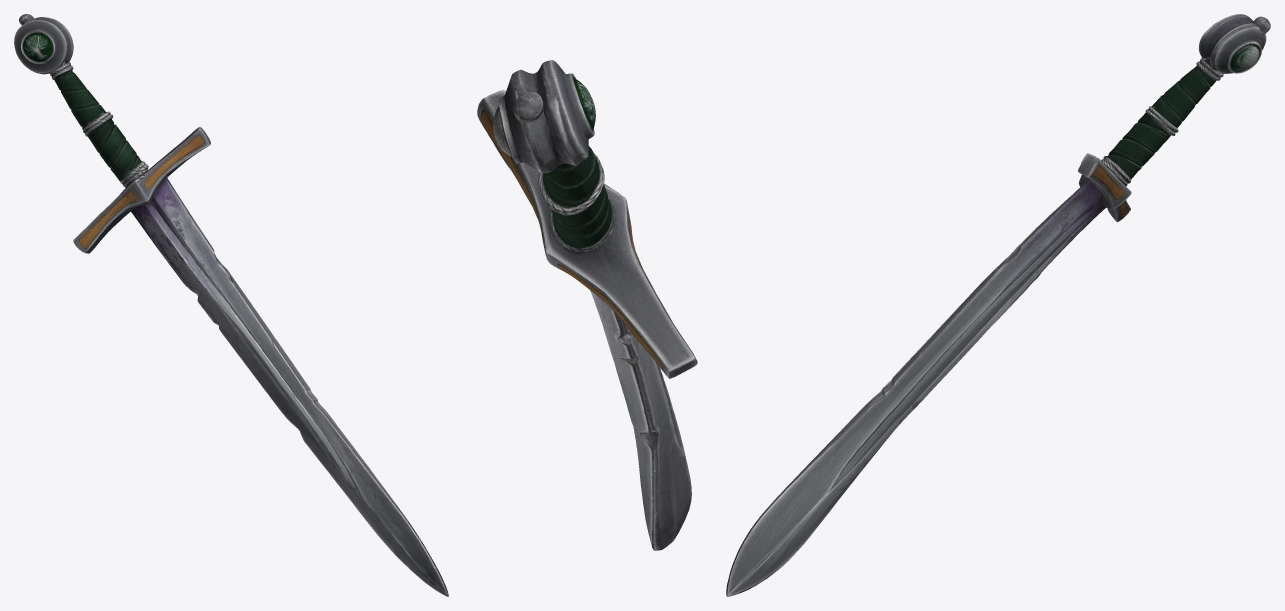
File: spada_guarnigione_sylvorn.glb
The picture shows the model from 3 angles, left to right: view 1: azimuth 30°, elevation 25°; view 2: azimuth 150°, elevation 25°; view 3: azimuth 270°, elevation 25°; orthographic projection. The views are drawn at different scales.
Visible parts, largest first — view 1: mesh_node; view 2: mesh_node; view 3: mesh_node.
Boxes of the visible parts, box(x1,y1,x2,y2) form: mesh_node: box(14, 14, 448, 596); mesh_node: box(477, 60, 697, 550); mesh_node: box(726, 14, 1270, 596).
Bounding box in the file's own units: 0.8539 × 1.88 × 1.9.
Materials: 1 (1 with a texture image).
